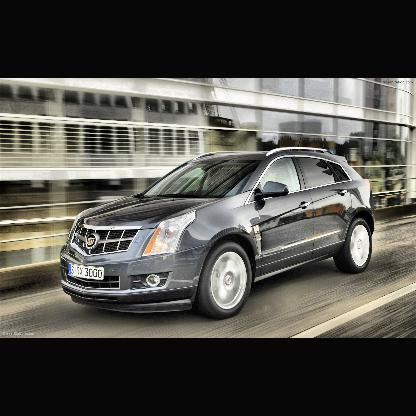Cadillac SRX SUV 2012: (60, 146, 377, 319)
